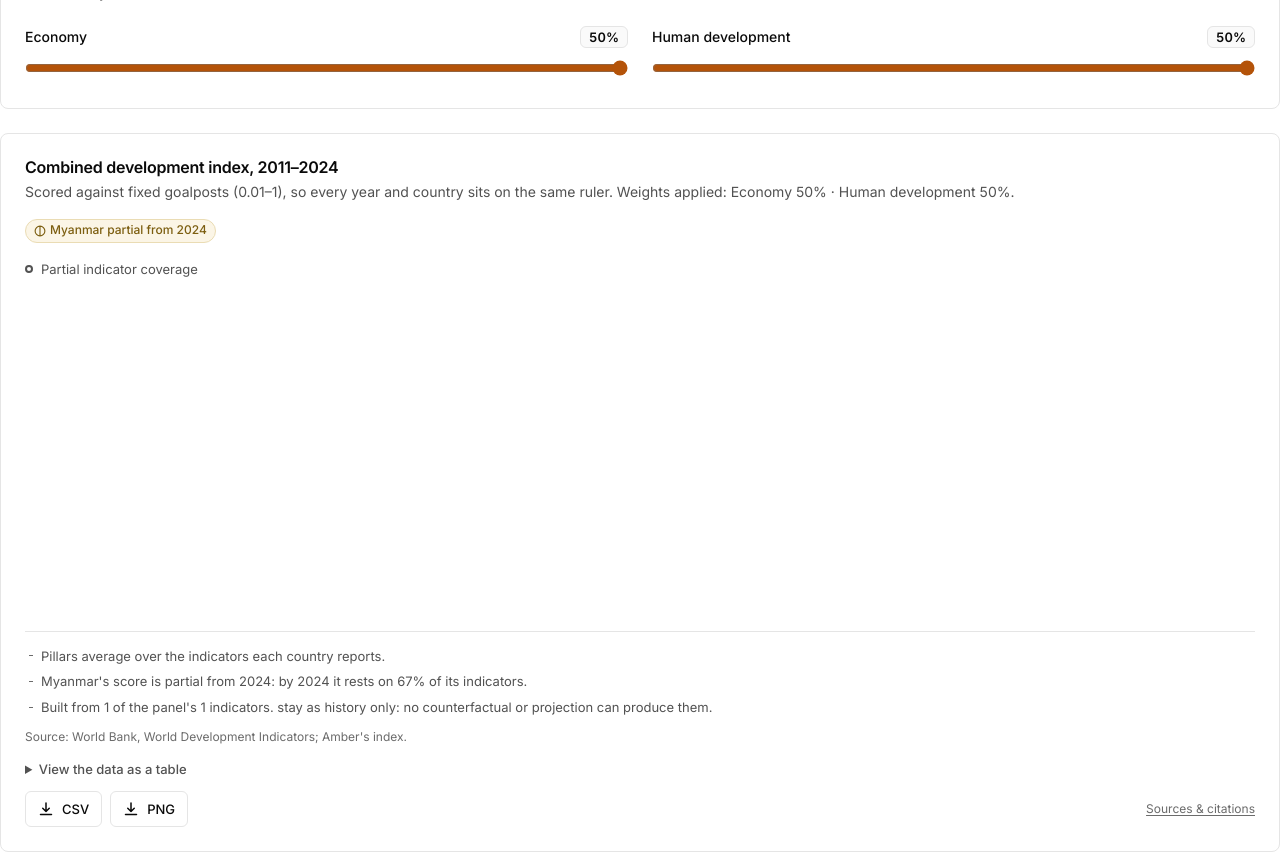
Test: Past › downloads the loaded series as CSV, with the caveats and the source first
The image size is (1280, 852).
(page scrolled)
expect the list item "rests on 67%" is shown: met, box [41,673,527,689]
Click the button with aria-label "Download this chart's data as CSV" at (64, 809), box [25,791,102,827]
(page scrolled)
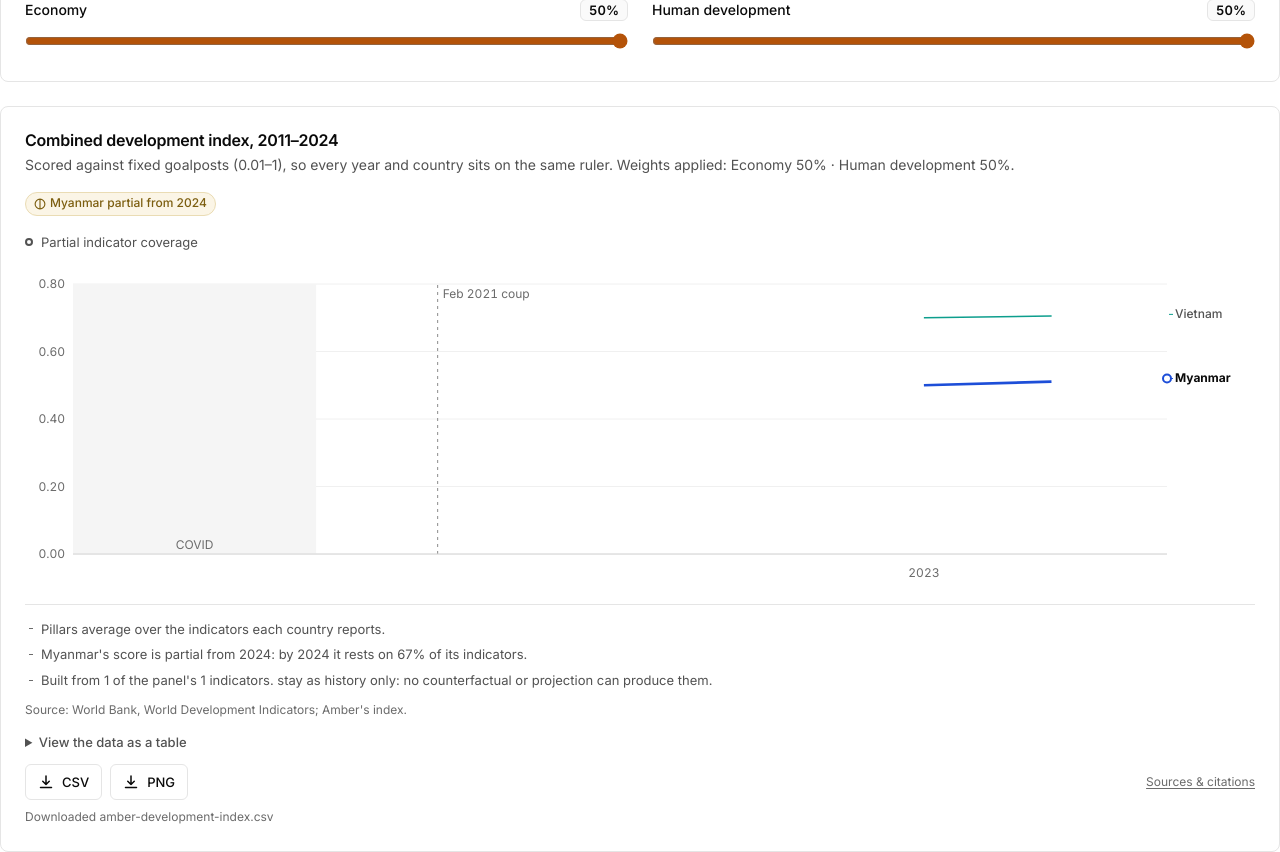
expect the text "Downloaded amber-development-index.csv" is shown: met, box [25,809,274,824]
